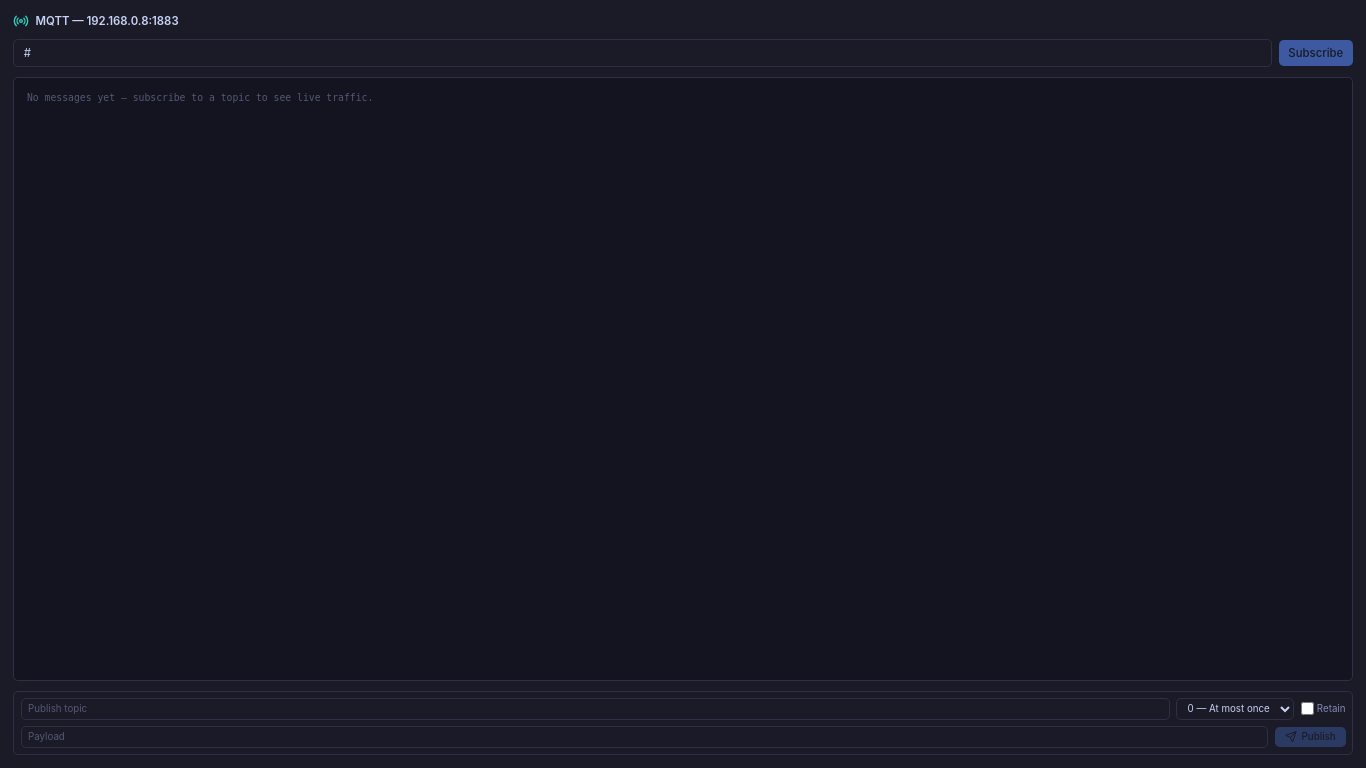
Test case: MqttClient › subscribes to a topic and renders it as a removable chip
Expected: the text "No messages yet — subscribe to a topic to see live traffic." is shown, [27,92,373,103]
Replace the text in the field with placeholder "Topic filter, e.g. sensors/#" with "sensors/temp" at (643, 53), box [13,39,1272,67]
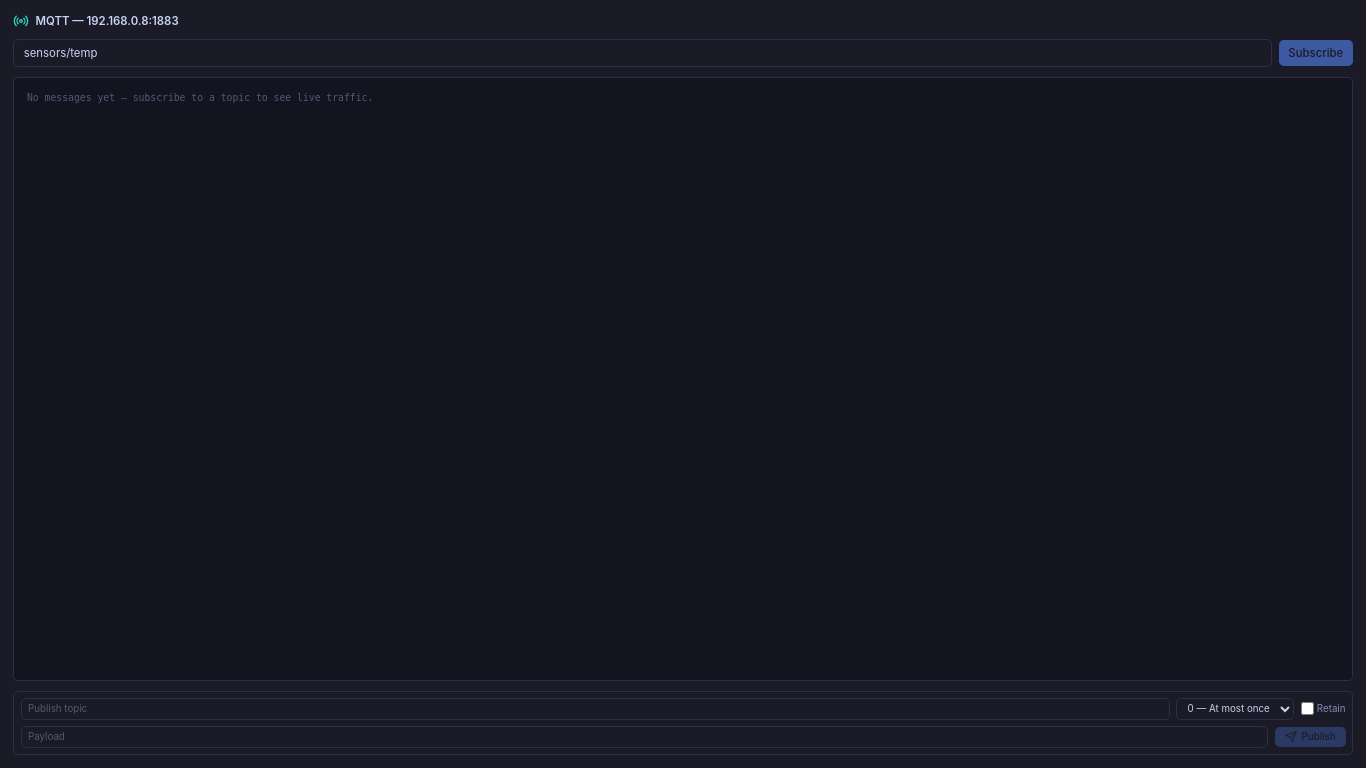
Click the button "Subscribe" at (1316, 53), box [1279,40,1353,66]
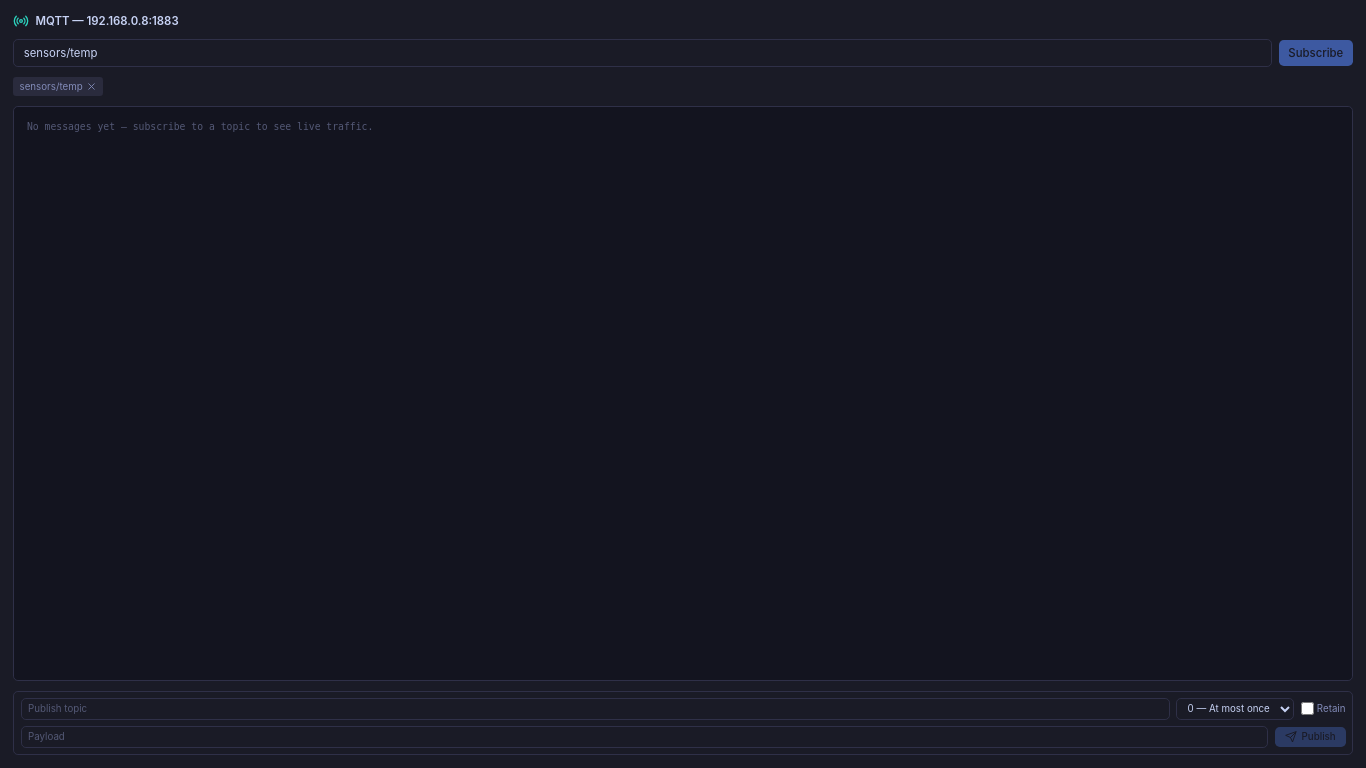
Result: the text "sensors/temp" is shown at [13,77,104,96]
